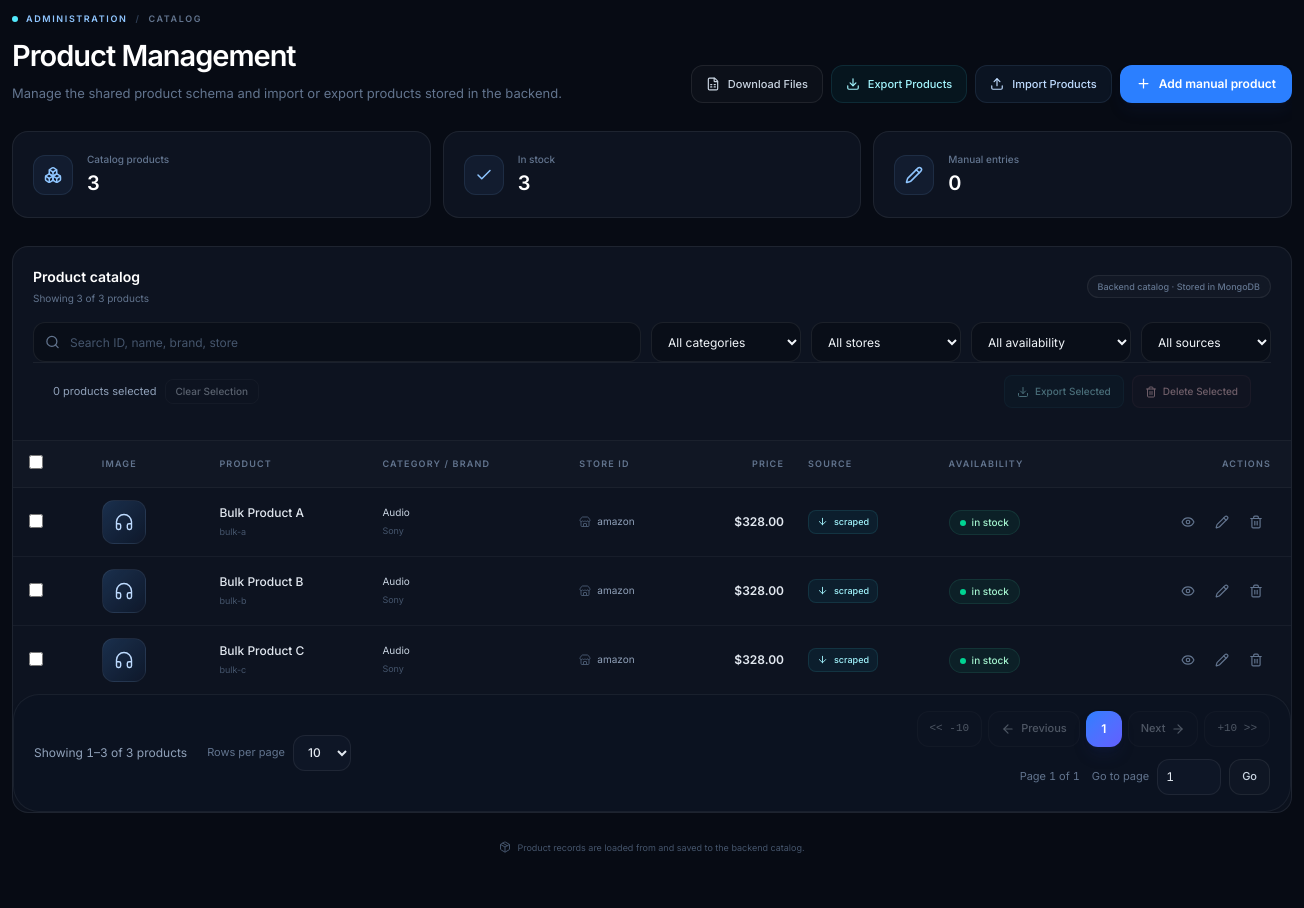
admin and shared user pages › does not write an export audit event when a bulk export fails
Click the checkbox named "Select bulk-a": (36, 520) [29, 514, 43, 528]
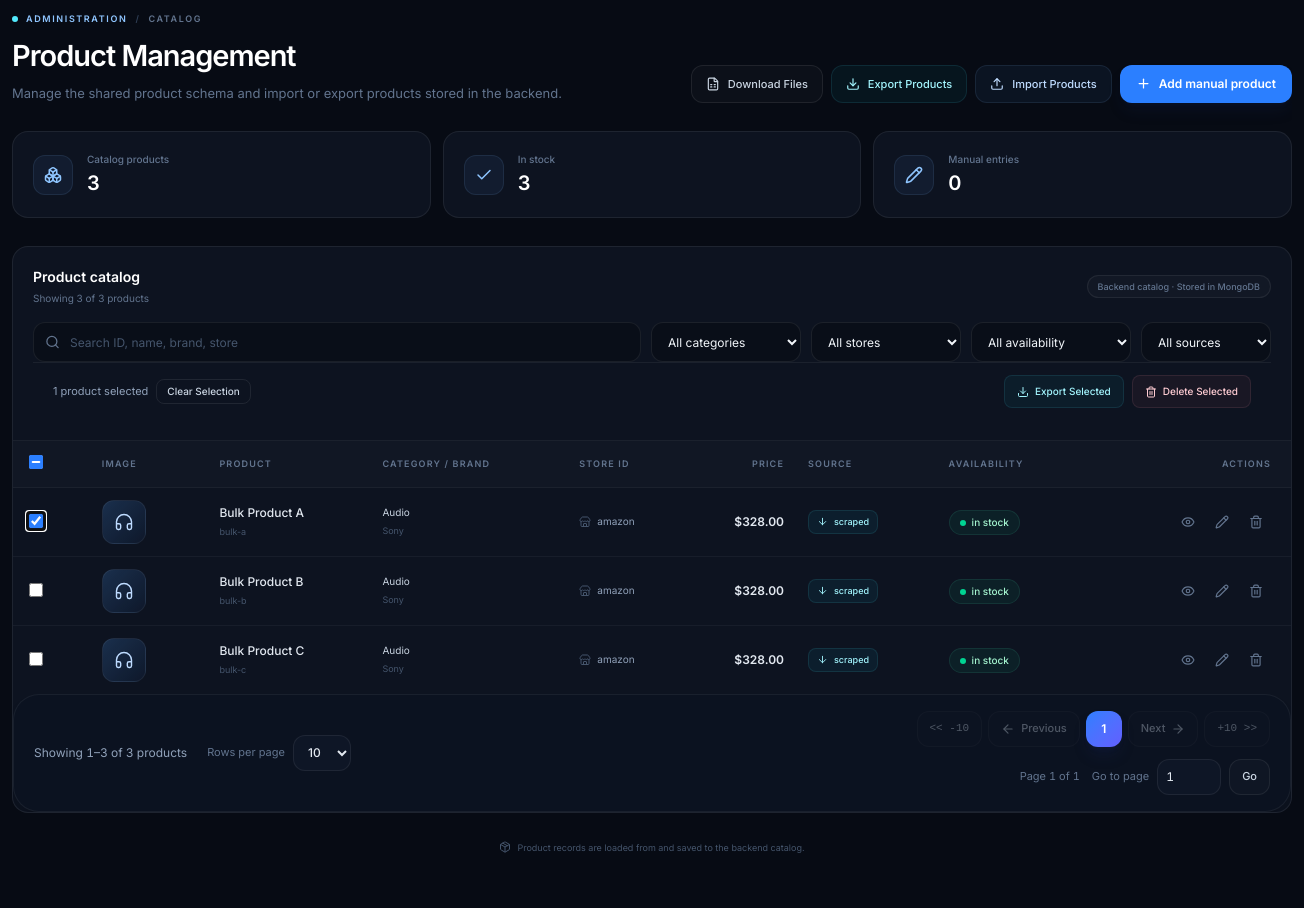
Click the button "Export Selected": (1064, 392) [1004, 375, 1124, 408]
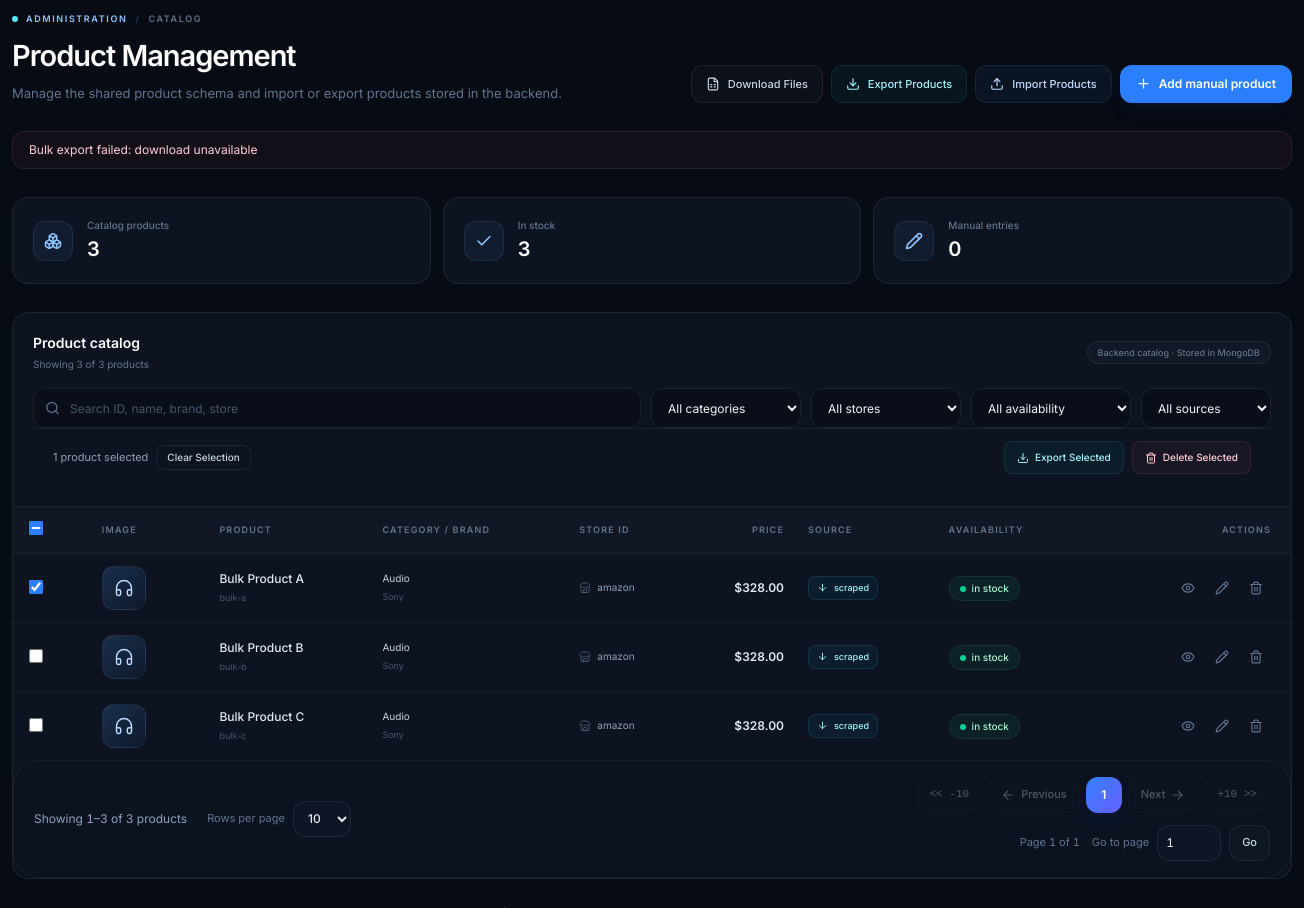
Now the message shows "Bulk export failed", box [29, 142, 258, 157]
